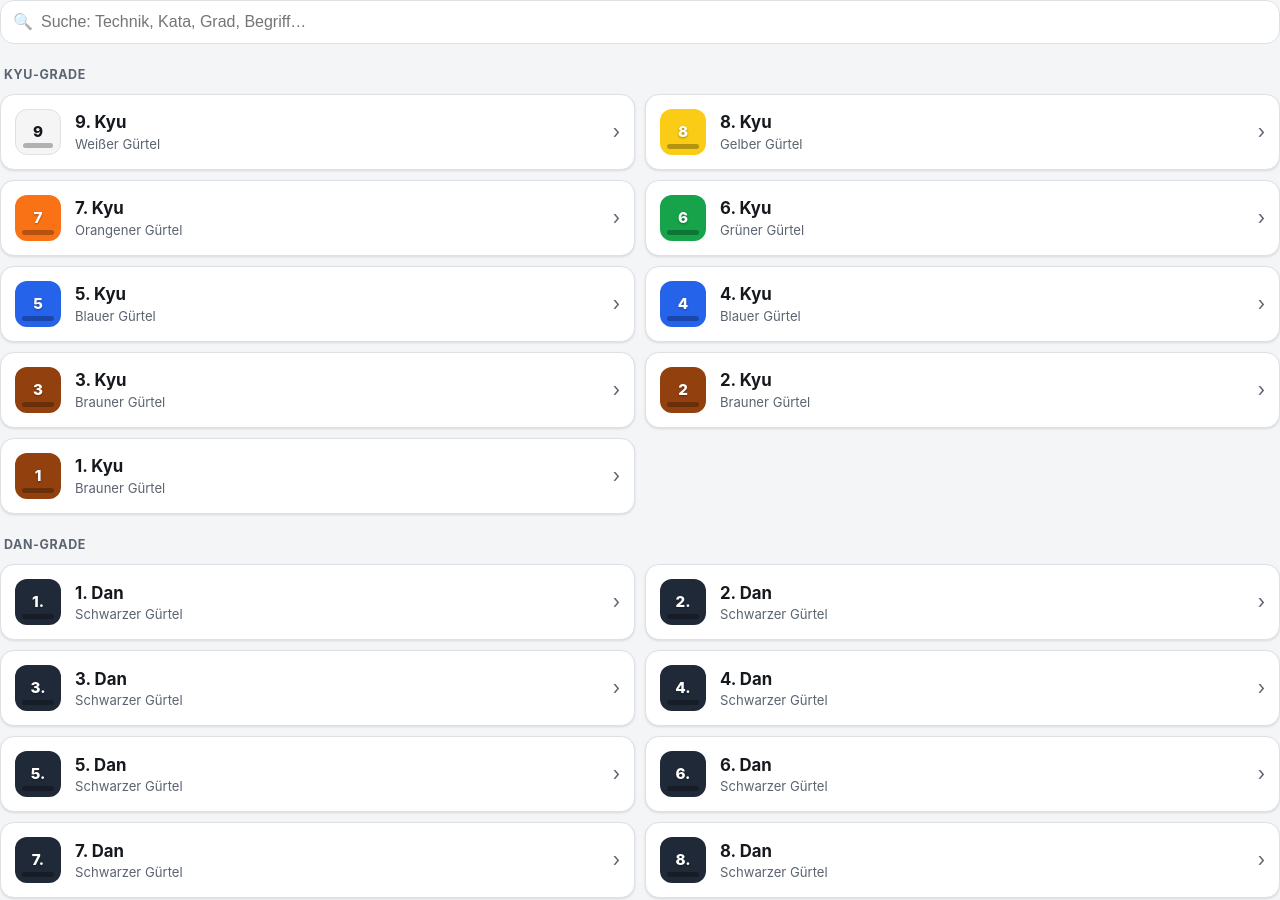
it: HomePage › filters grades by a query
// Placeholder: "Suche: Technik, Kata, Grad, Begriff…"
Type "Heian Shodan" into the search field with placeholder "Suche: Technik, Kata, Grad, Begriff…".
click(640, 22); type("Heian Shodan")  # box [0,0,1279,44]
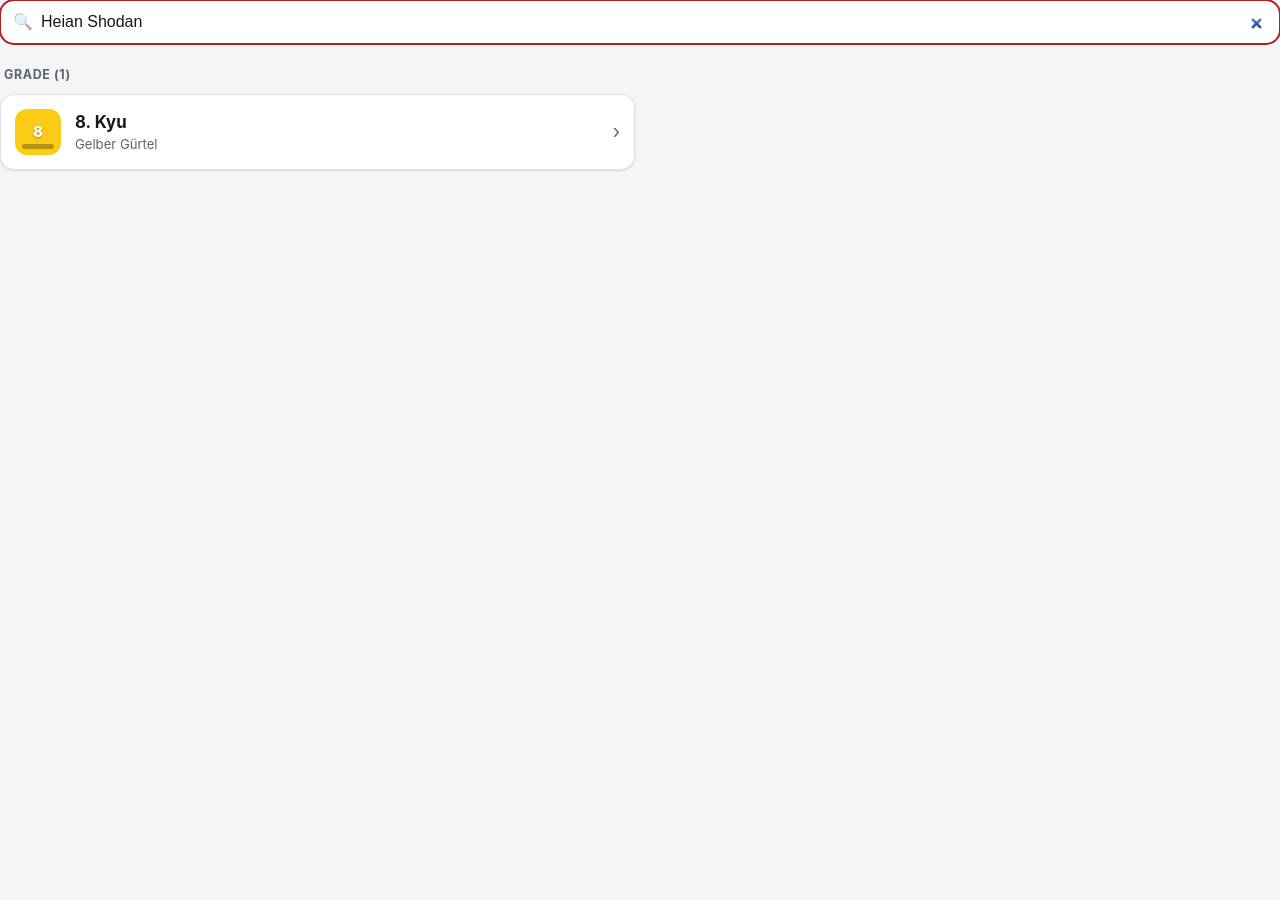
Check: the text "Grade (1)" is shown, box [4,67,71,82]
